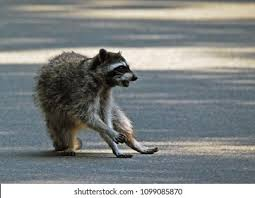raccoon: (35, 50, 161, 156)
